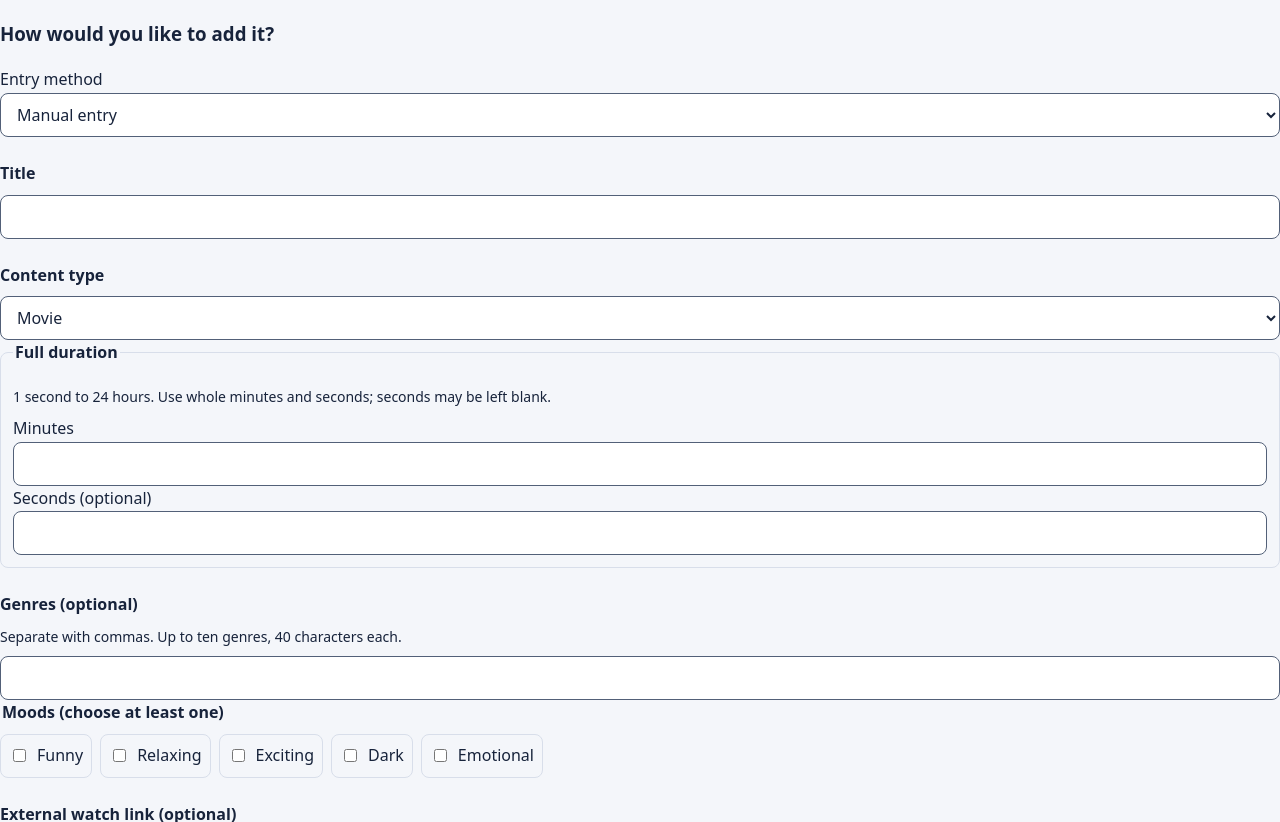
Scenario: edits while detail is pending require new consent and editing a staged replacement invalidates it
This screenshot has width=1280, height=822.
Select "YouTube" in the dropdown labelled "Entry method" at (640, 115), box [0,93,1279,137]
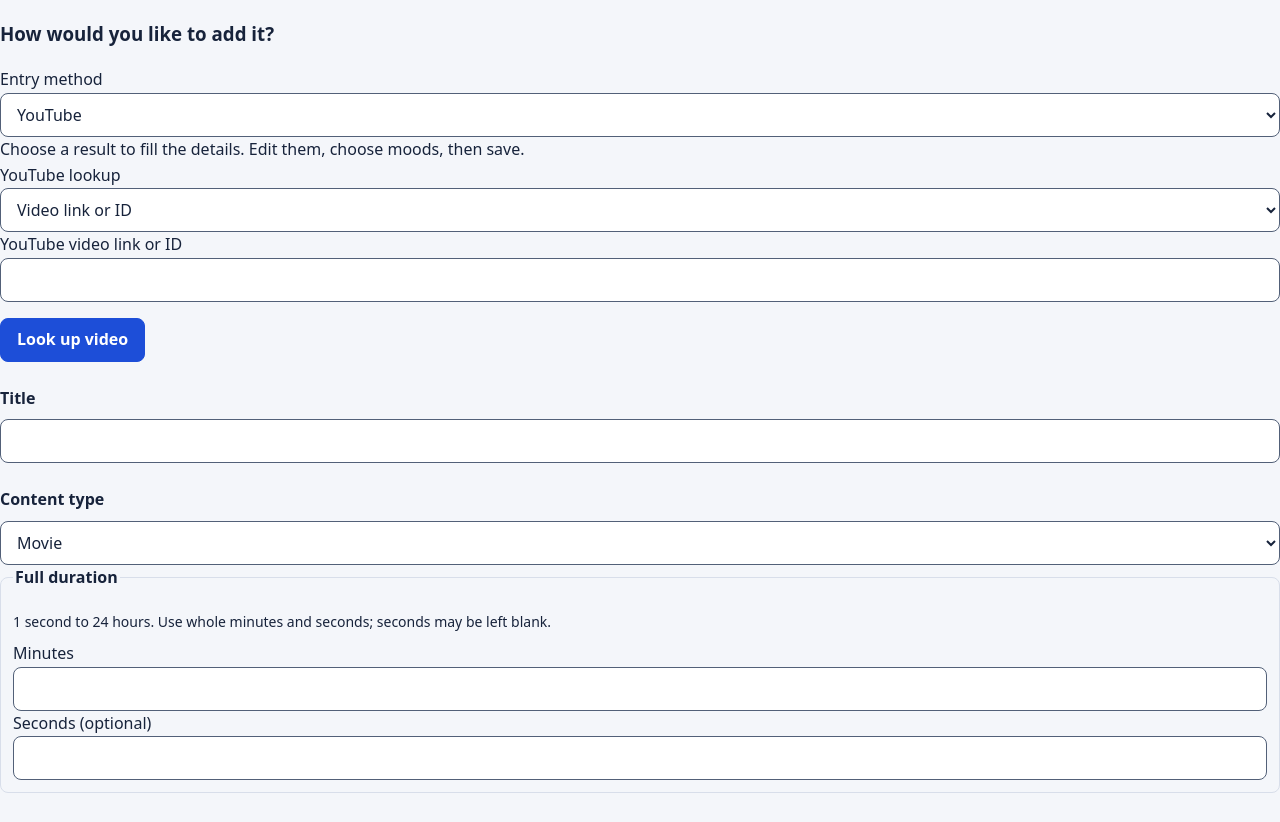
Click the button "Look up video" at (73, 340), box [0,318,145,362]
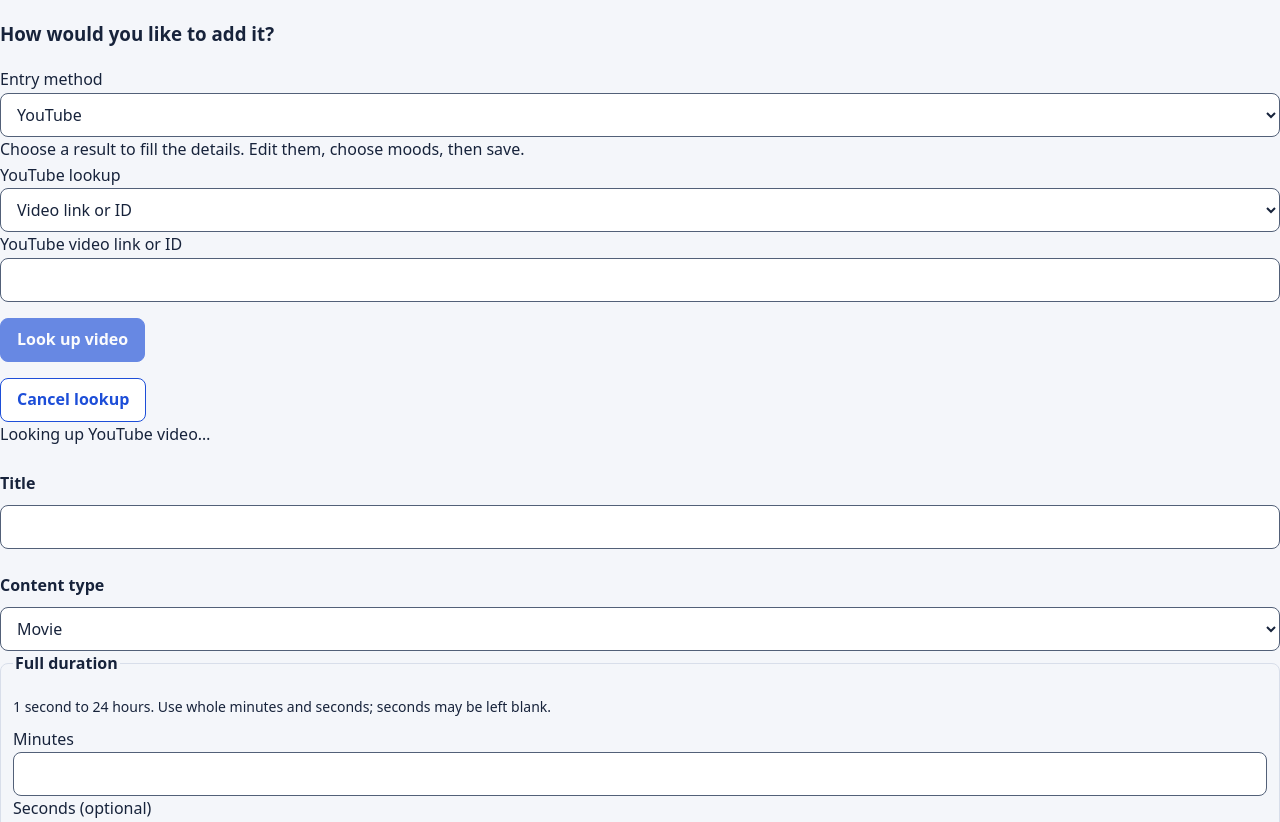
Type "While waiting" into the field labelled "Title" at (640, 527), box [0,505,1279,549]
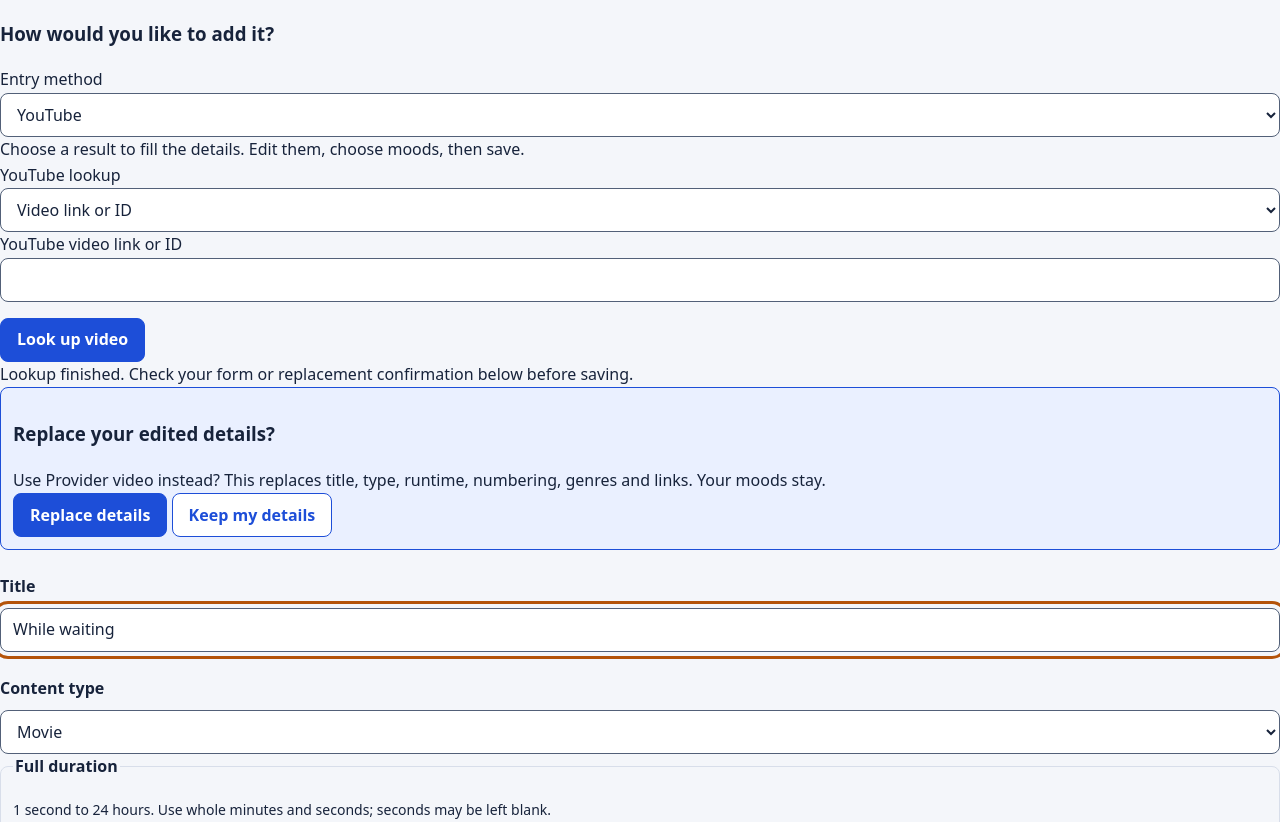
Result: the button "Replace details" is shown at [13,493,167,537]
Replace the text in the field labelled "Title" with "Newer still" at (640, 630), box [0,608,1279,652]
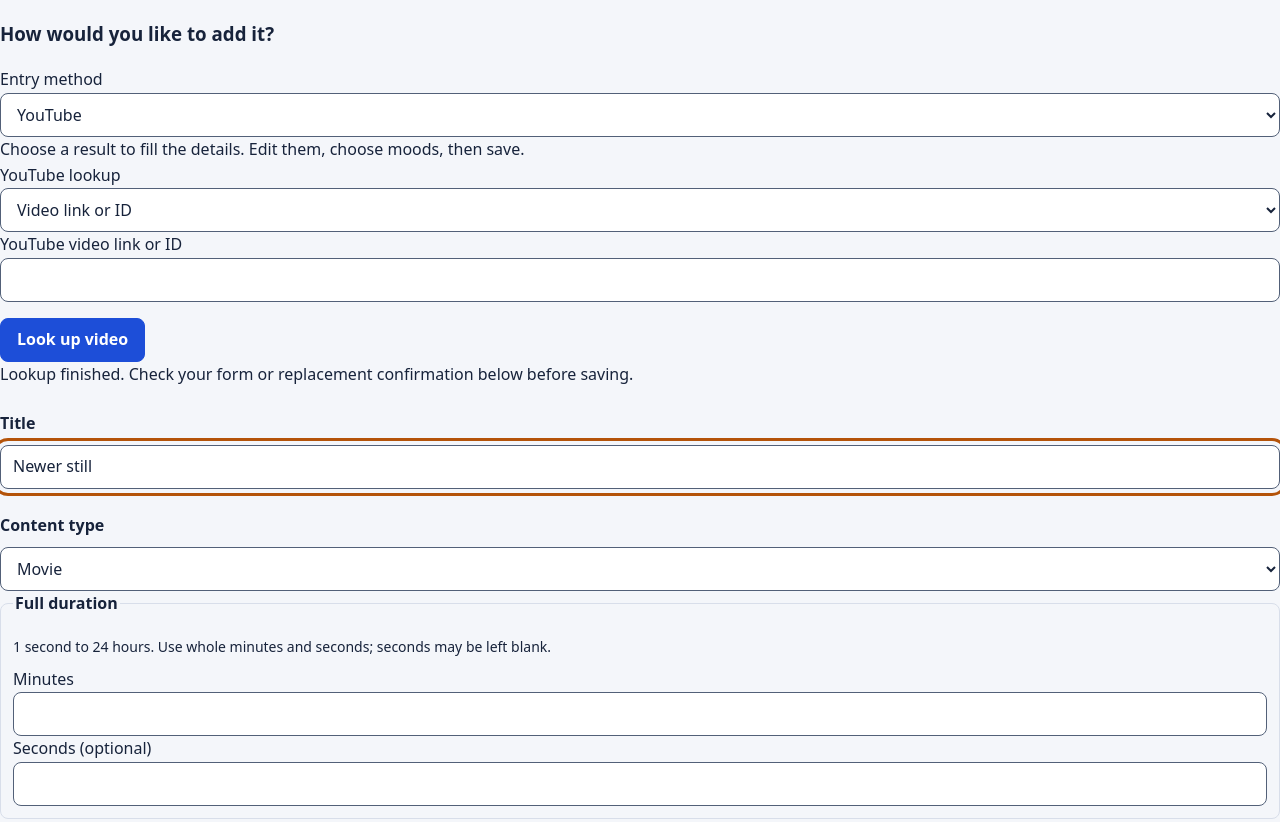
Result: the button "Replace details" is gone
